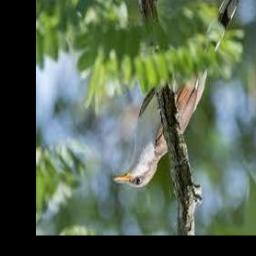Cuckoo: (112, 0, 241, 188)
